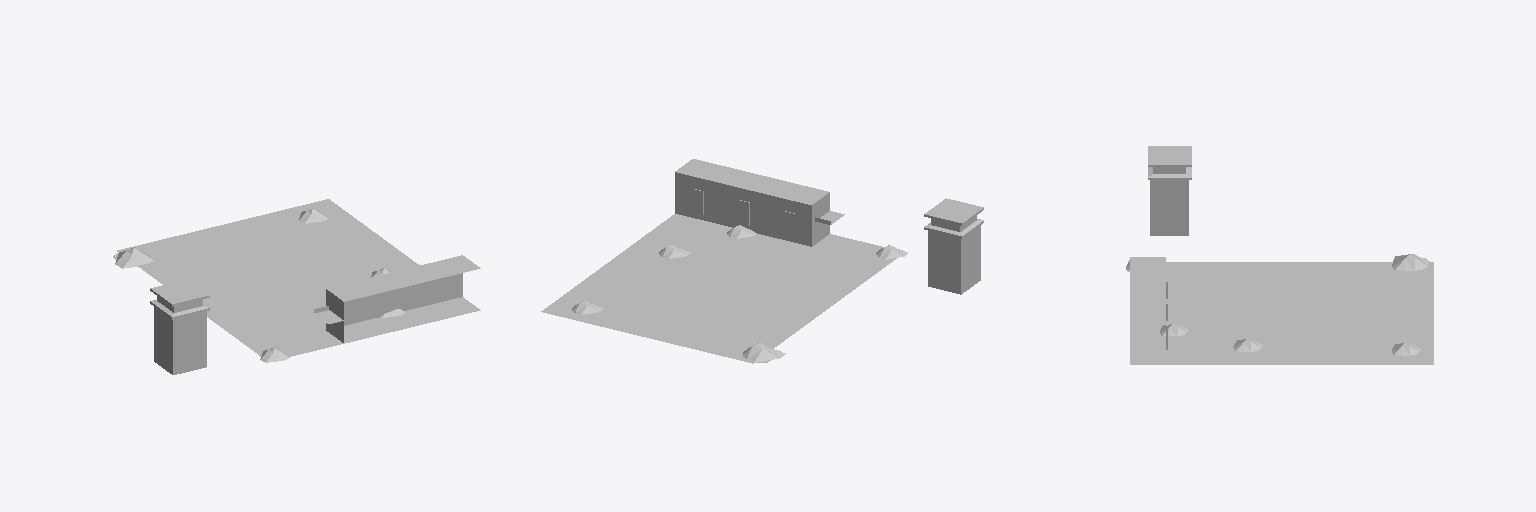
Rendered from ground_building.obj.
The picture shows the model from 3 angles: view 1: azimuth 30°, elevation 25°; view 2: azimuth 150°, elevation 25°; view 3: azimuth 270°, elevation 25°; orthographic projection.
Bounding box in the file's own units: 26.81 × 6.26 × 23.9.